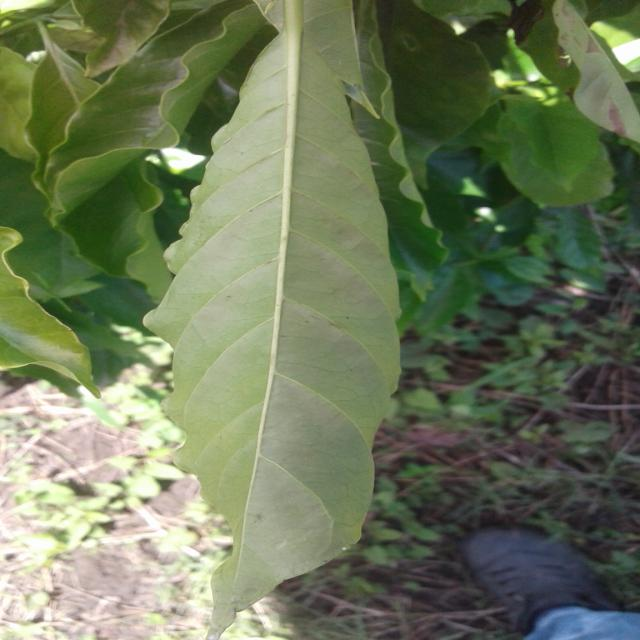Sanas: (162, 32, 403, 632)
